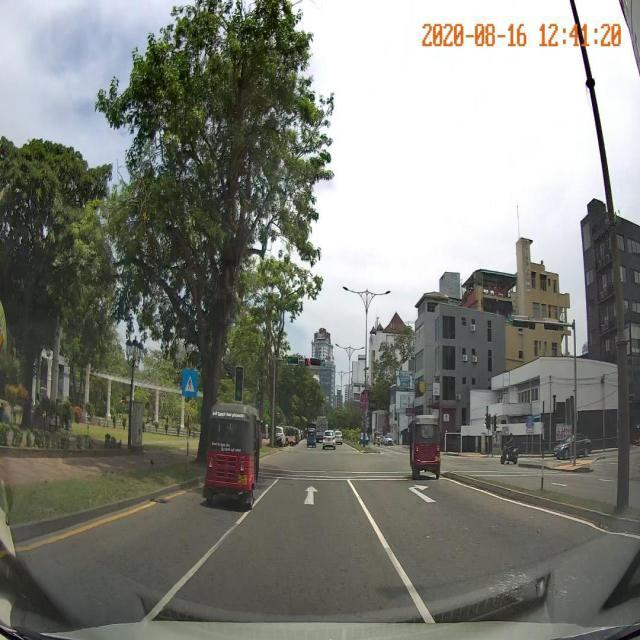Strelka vpered: (304, 486, 319, 505)
Strelka vpravo: (409, 485, 437, 503)
